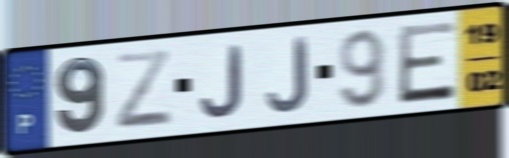9: (51, 52, 107, 138), (336, 26, 389, 110)
E: (396, 18, 459, 107)
J: (264, 34, 311, 115), (198, 43, 246, 120)
Z: (114, 47, 176, 131)
